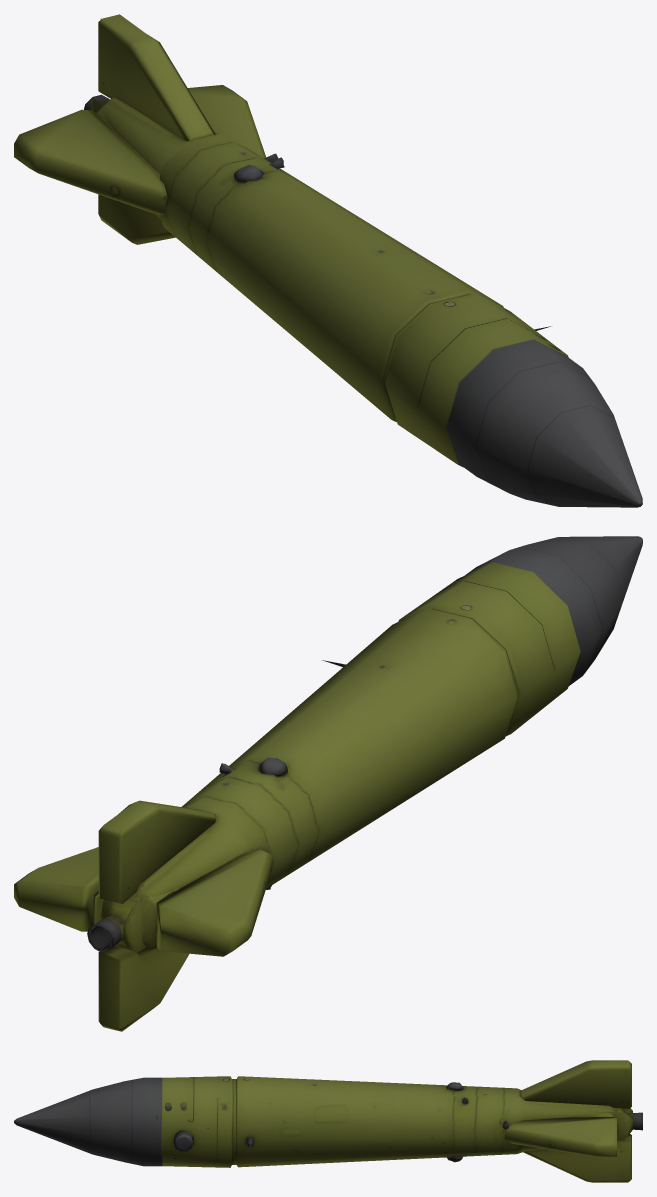
Rendered from rocket.glb.
The picture shows the model from 3 angles, top to bottom: view 1: azimuth 30°, elevation 25°; view 2: azimuth 150°, elevation 25°; view 3: azimuth 270°, elevation 25°; orthographic projection. The views are drawn at different scales.
Visible parts, largest first — view 1: tripo_node_c0933ac6-23e4-401d-beff-6868bceb6177; view 2: tripo_node_c0933ac6-23e4-401d-beff-6868bceb6177; view 3: tripo_node_c0933ac6-23e4-401d-beff-6868bceb6177.
Part boxes in pixels (x1=…): tripo_node_c0933ac6-23e4-401d-beff-6868bceb6177: x1=14, y1=14, x2=642, y2=507; tripo_node_c0933ac6-23e4-401d-beff-6868bceb6177: x1=14, y1=536, x2=642, y2=1031; tripo_node_c0933ac6-23e4-401d-beff-6868bceb6177: x1=14, y1=1060, x2=642, y2=1182.
Bounding box in the file's own units: 0.2402 × 0.2051 × 0.998.
Materials: 1 (1 with a texture image).
